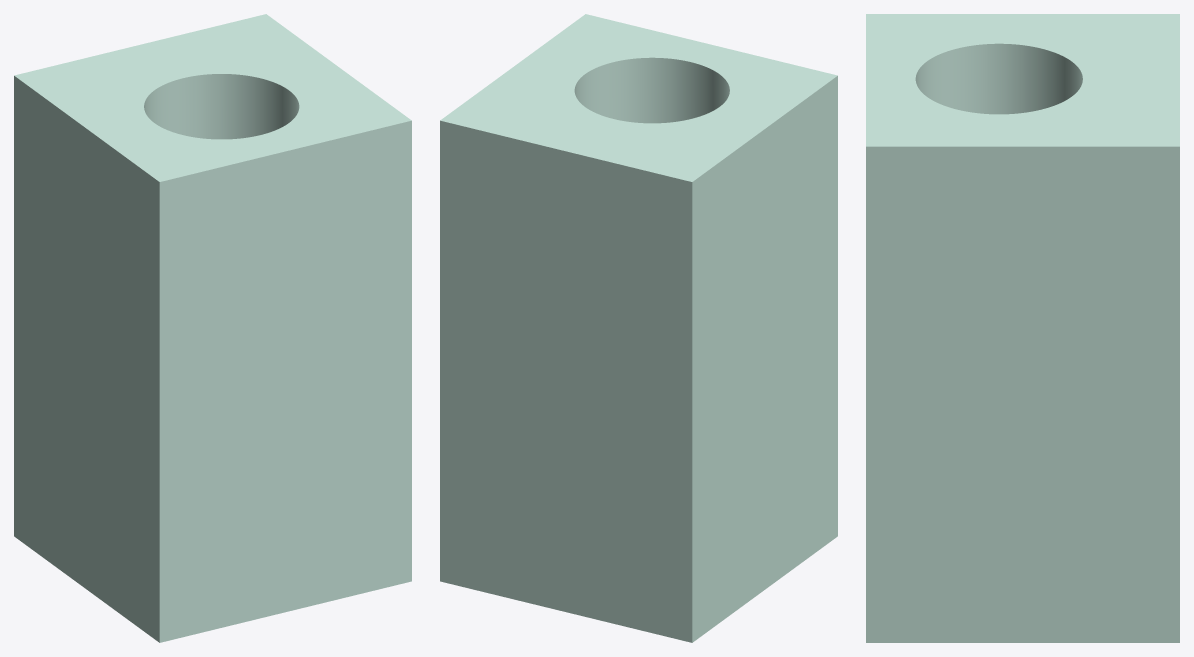
3 renders of one model, left to right at view 1: azimuth 30°, elevation 25°; view 2: azimuth 150°, elevation 25°; view 3: azimuth 270°, elevation 25°, orthographic. The views are drawn at different scales.
Visible parts, largest first — view 1: Renderer Node; view 2: Renderer Node; view 3: Renderer Node.
Part boxes in pixels (x1,y1,x2,y2): Renderer Node: [14, 14, 411, 642]; Renderer Node: [440, 14, 837, 642]; Renderer Node: [866, 14, 1179, 642].
Size of the model in its own units: 0.4297 by 0.75 by 0.4297.
